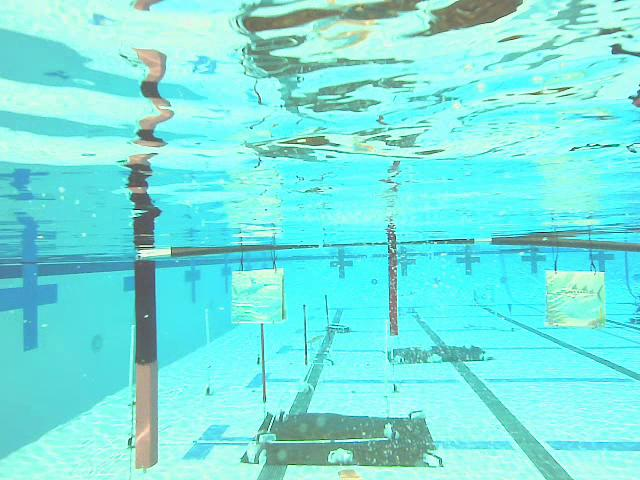black_poster: (324, 294, 331, 342), (304, 304, 307, 364)
divider: (388, 243, 397, 335)
left_gate_poster: (135, 260, 157, 468)
shark: (231, 269, 286, 323)
swordfish: (547, 271, 604, 325)
white_poster: (127, 325, 135, 449), (205, 308, 210, 395)
